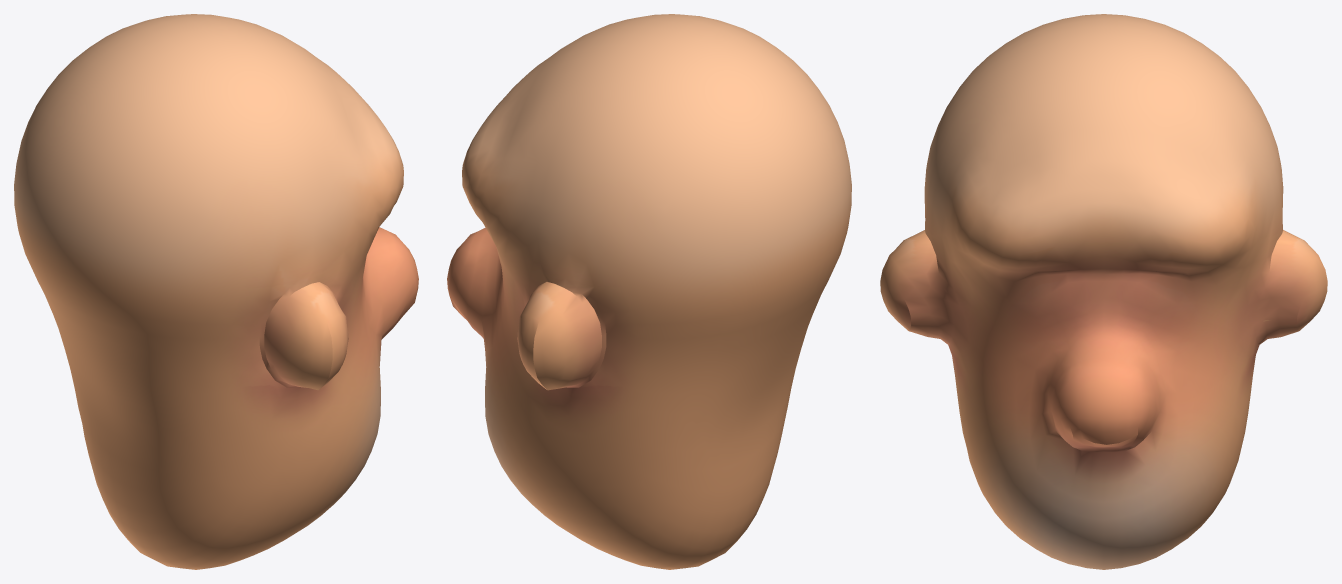
The model's file is Head.fbx.
The picture shows the model from 3 angles, left to right: view 1: azimuth 30°, elevation 25°; view 2: azimuth 150°, elevation 25°; view 3: azimuth 270°, elevation 25°; orthographic projection.
Visible parts, largest first — view 1: Head; view 2: Head; view 3: Head.
Part boxes in pixels (bbox=[...]): Head: bbox=[14, 14, 418, 569]; Head: bbox=[447, 14, 851, 569]; Head: bbox=[880, 14, 1327, 569].
Bounding box in the file's own units: 79.59 × 107 × 84.17.
